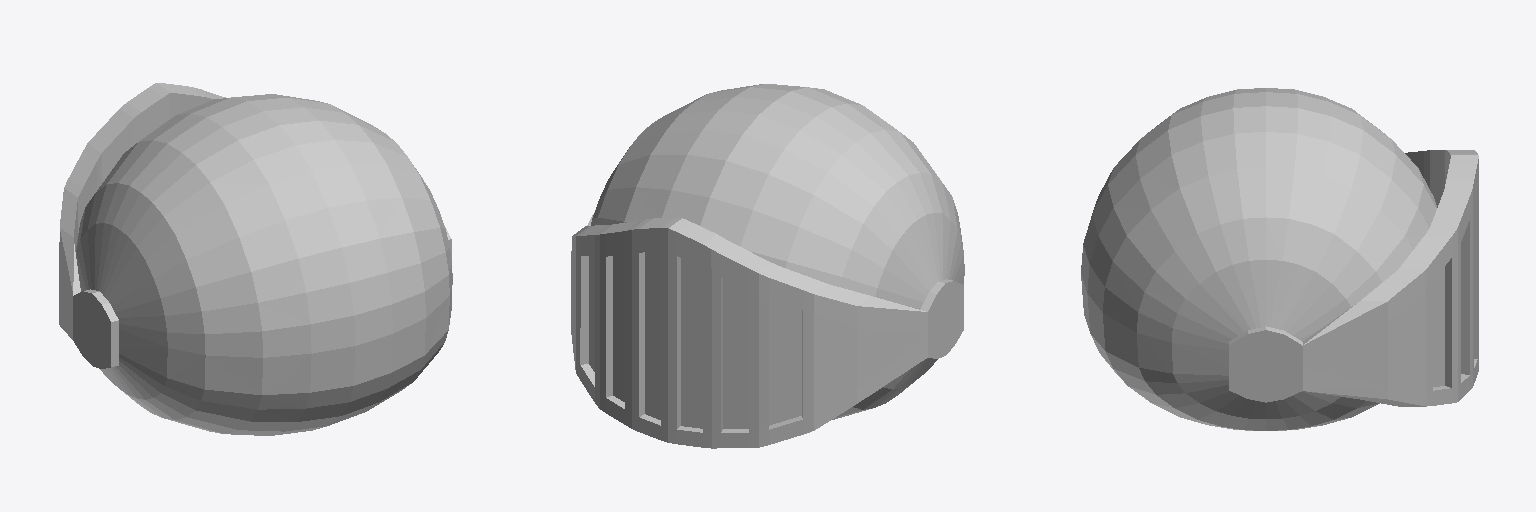
File: Knight_head.obj
3 renders of one model, left to right at view 1: azimuth 30°, elevation 25°; view 2: azimuth 150°, elevation 25°; view 3: azimuth 270°, elevation 25°, orthographic.
Visible parts, largest first — view 1: 頭_立方体; view 2: 頭_立方体; view 3: 頭_立方体.
Boxes of the visible parts, box(x1,y1,x2,y2) form: 頭_立方体: box(59, 83, 452, 435); 頭_立方体: box(571, 84, 964, 448); 頭_立方体: box(1081, 88, 1478, 430).
Bounding box in the file's own units: 4.32 × 3.6 × 4.34.